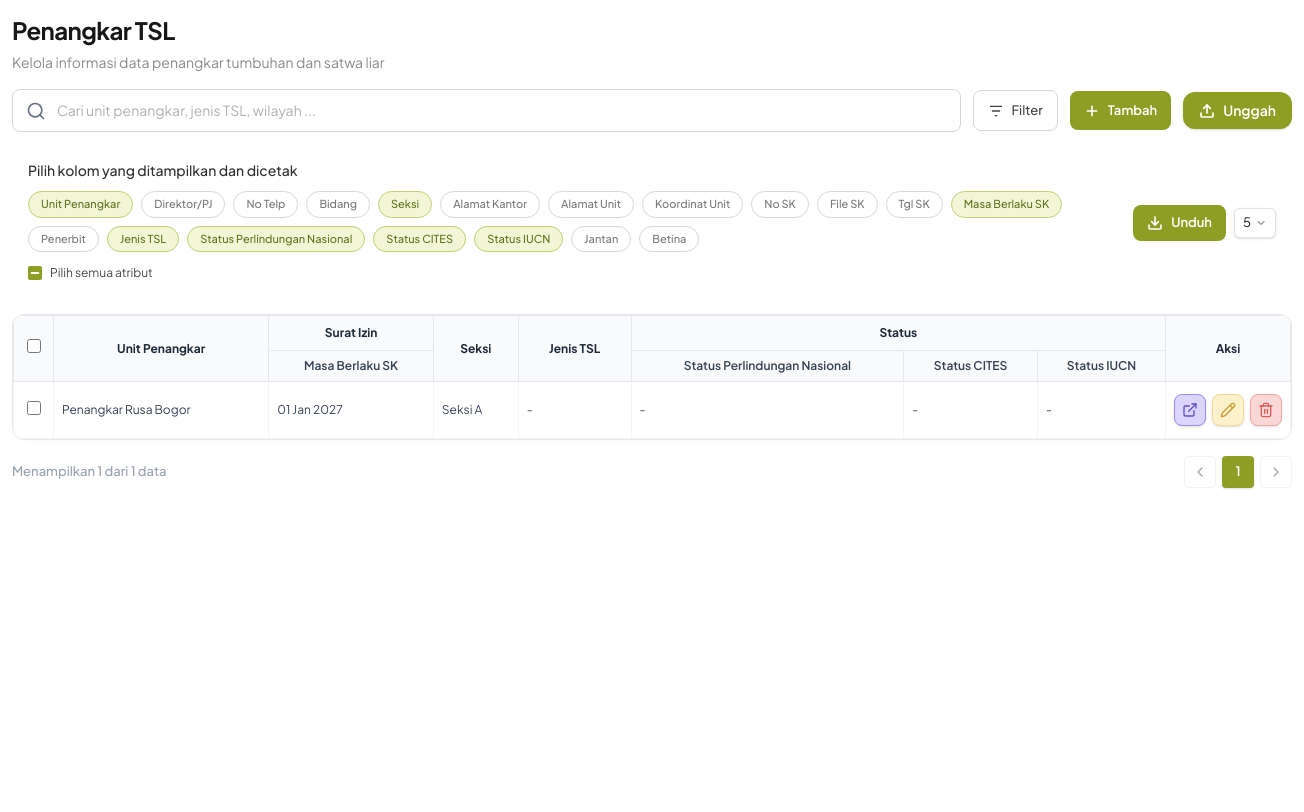
Test: PenangkaranPage Component (Penangkaran Unit Test) › fitur pencarian menyaring data di tabel
Expected: the text "Penangkar Rusa Bogor" is shown, x1=54 y1=382 x2=269 y2=438
Cari data yang tidak ada
Type "Harimau" into the field with placeholder "Cari unit penangkar, jenis TSL, wilayah ...". click: (486,110)
box: x1=12 y1=89 x2=960 y2=132
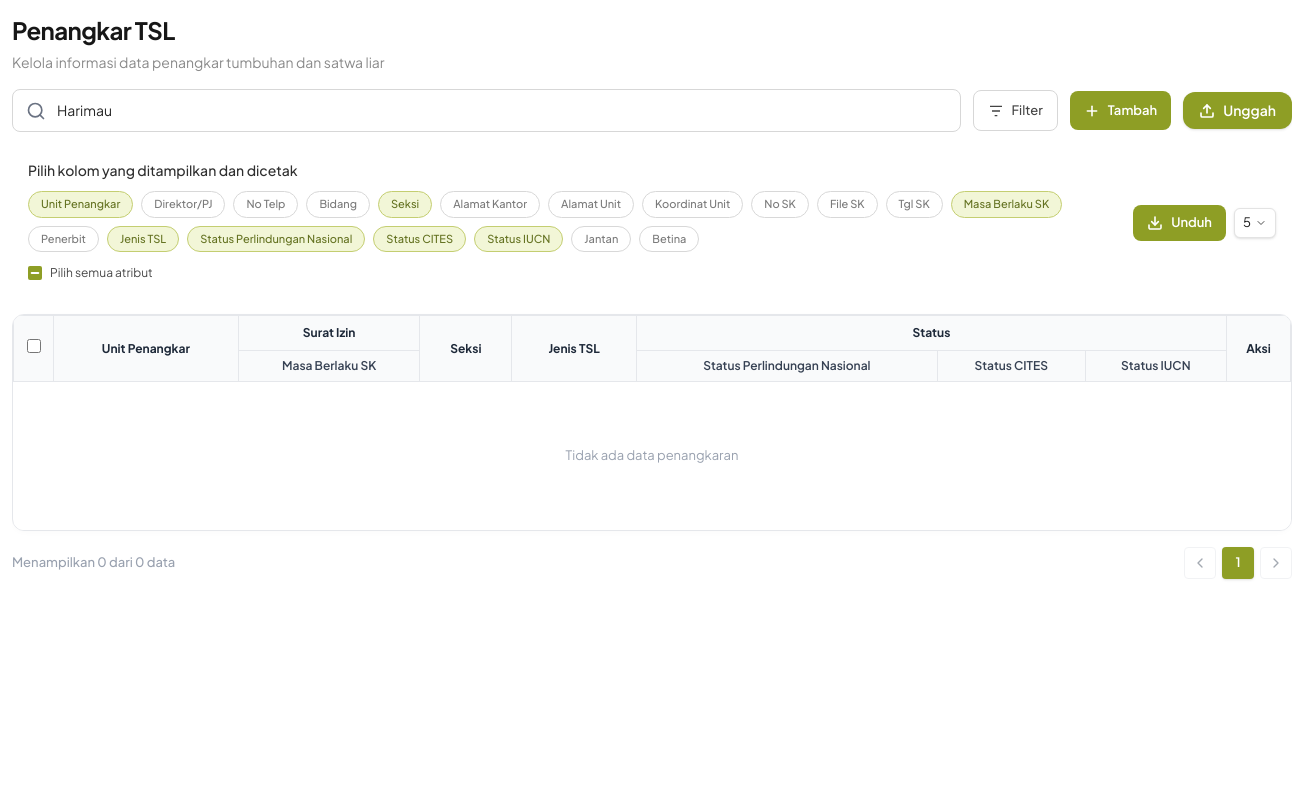
Expected: the text "Penangkar Rusa Bogor" is gone
Expected: the text "Tidak ada data penangkaran" is shown, x1=14 y1=382 x2=1290 y2=530
Cari data yang ada
Replace the text in the field with placeholder "Cari unit penangkar, jenis TSL, wilayah ..." with "Rusa". click: (486,110)
box: x1=12 y1=89 x2=960 y2=132
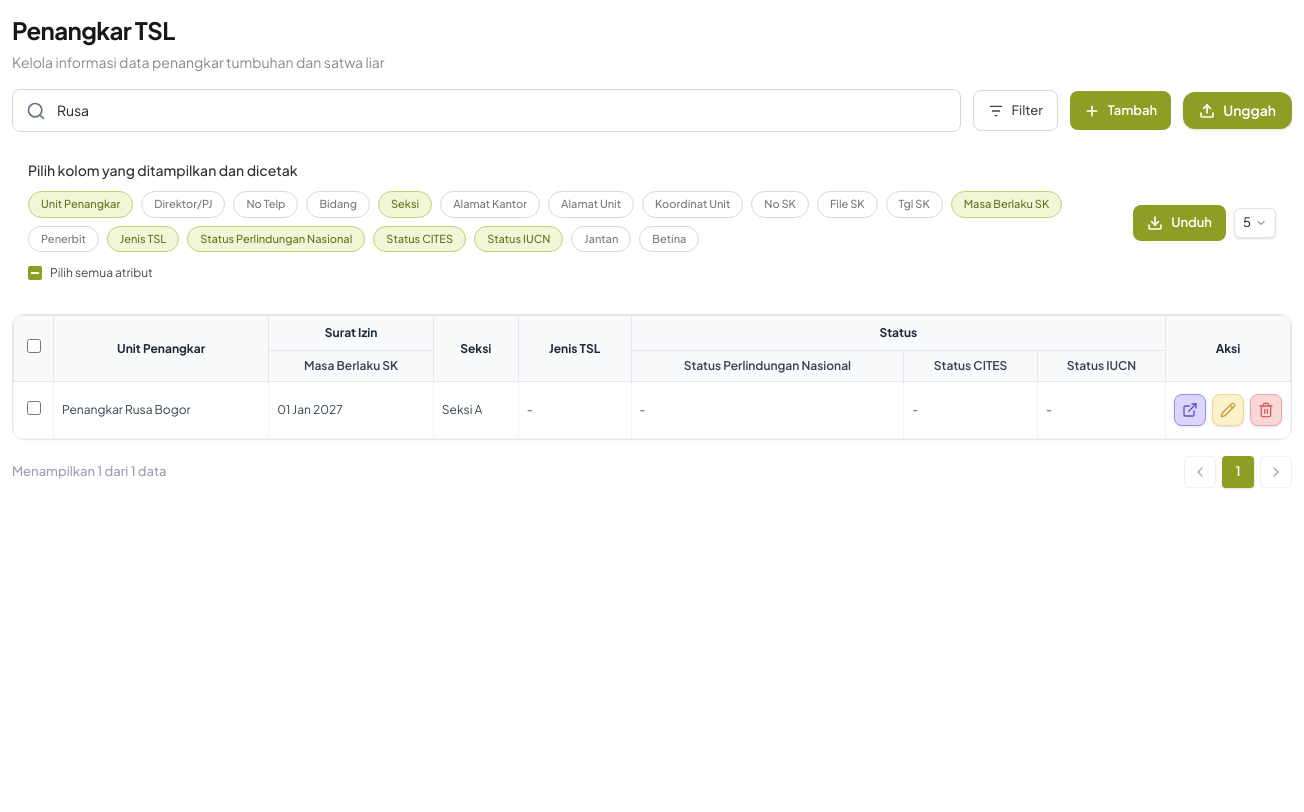
Expected: the text "Penangkar Rusa Bogor" is shown, x1=54 y1=382 x2=269 y2=438
